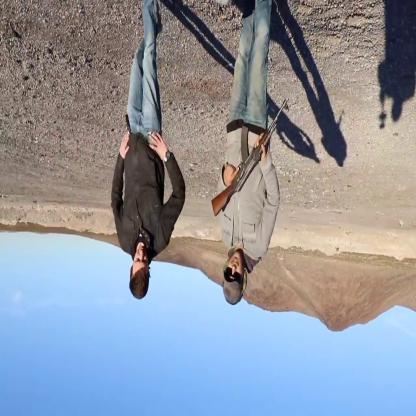long weapon: (208, 98, 296, 222)
